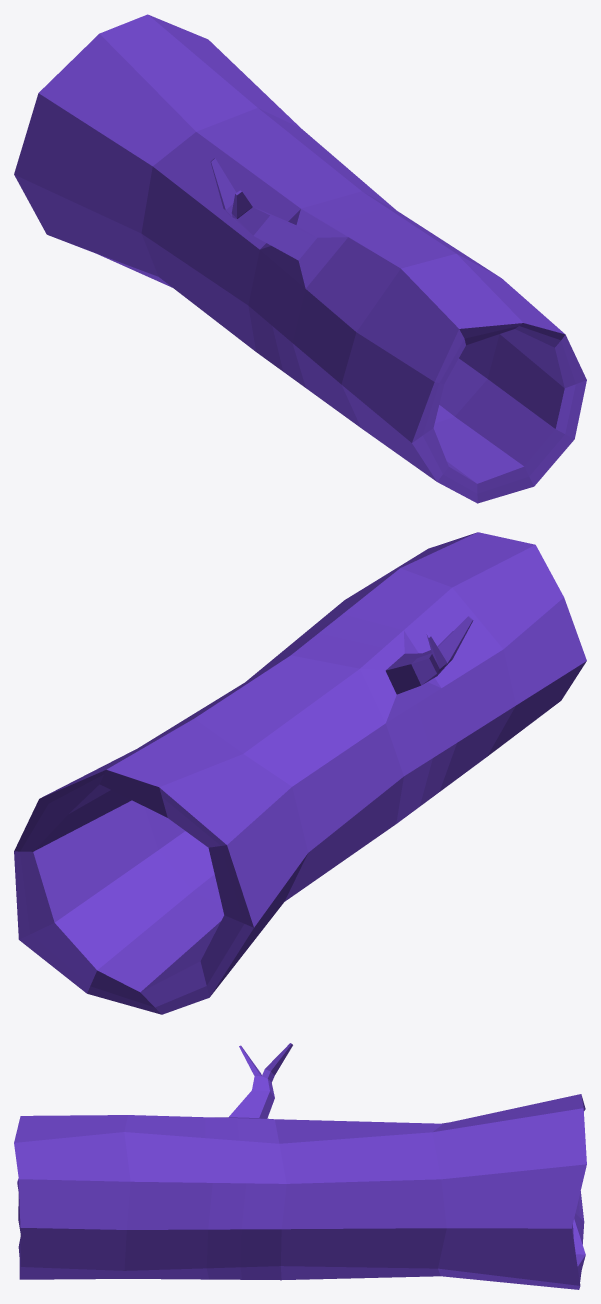
The model's file is log_003.fbx.
3 views of the same model, one above another, from view 1: azimuth 30°, elevation 25°; view 2: azimuth 150°, elevation 25°; view 3: azimuth 270°, elevation 25° (orthographic). The views are drawn at different scales.
Parts seen in each view (by area): view 1: log_003; view 2: log_003; view 3: log_003.
Boxes of the visible parts, left/top/right/bottom form: log_003: left=14, top=14, right=586, bottom=503; log_003: left=14, top=532, right=586, bottom=1014; log_003: left=14, top=1043, right=586, bottom=1289.
Bounding box in the file's own units: 396 × 402 × 1077.
